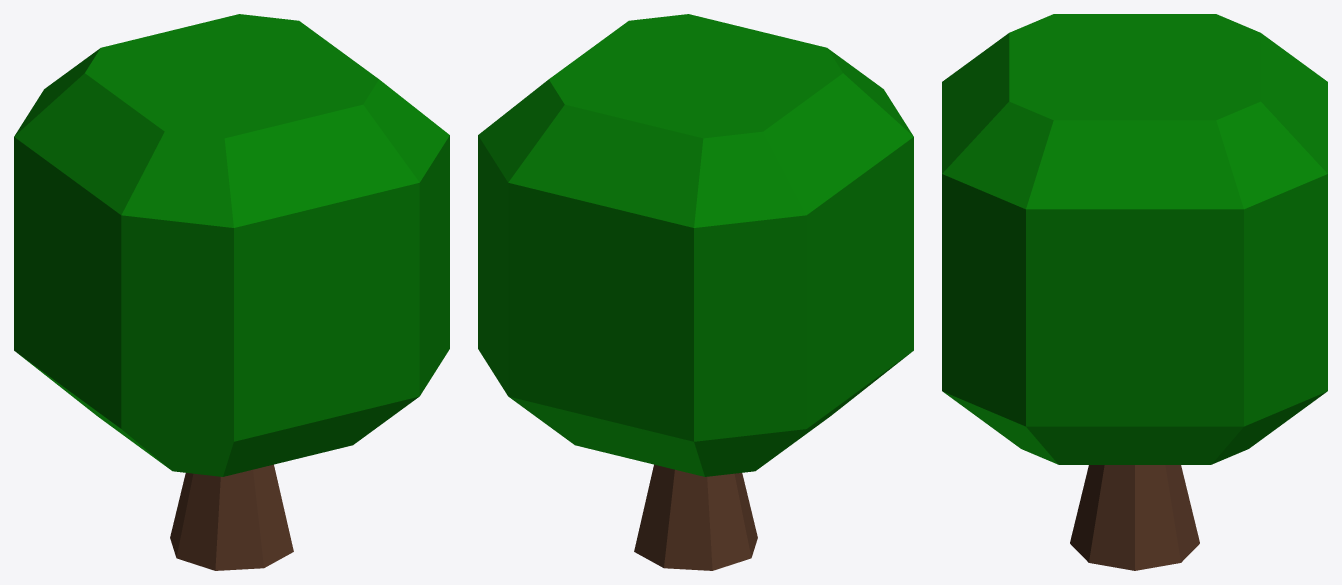
Rendered from bush_02.glb.
3 renders of one model, left to right at view 1: azimuth 30°, elevation 25°; view 2: azimuth 150°, elevation 25°; view 3: azimuth 270°, elevation 25°, orthographic.
Parts seen in each view (by area): view 1: Bush02; view 2: Bush02; view 3: Bush02.
Boxes of the visible parts, left/top/right/bottom form: Bush02: left=14, top=14, right=449, bottom=570; Bush02: left=478, top=14, right=913, bottom=570; Bush02: left=942, top=14, right=1327, bottom=570.
Size of the model in its own units: 1.48 by 2.01 by 1.48.
1 material, 1 textured.
